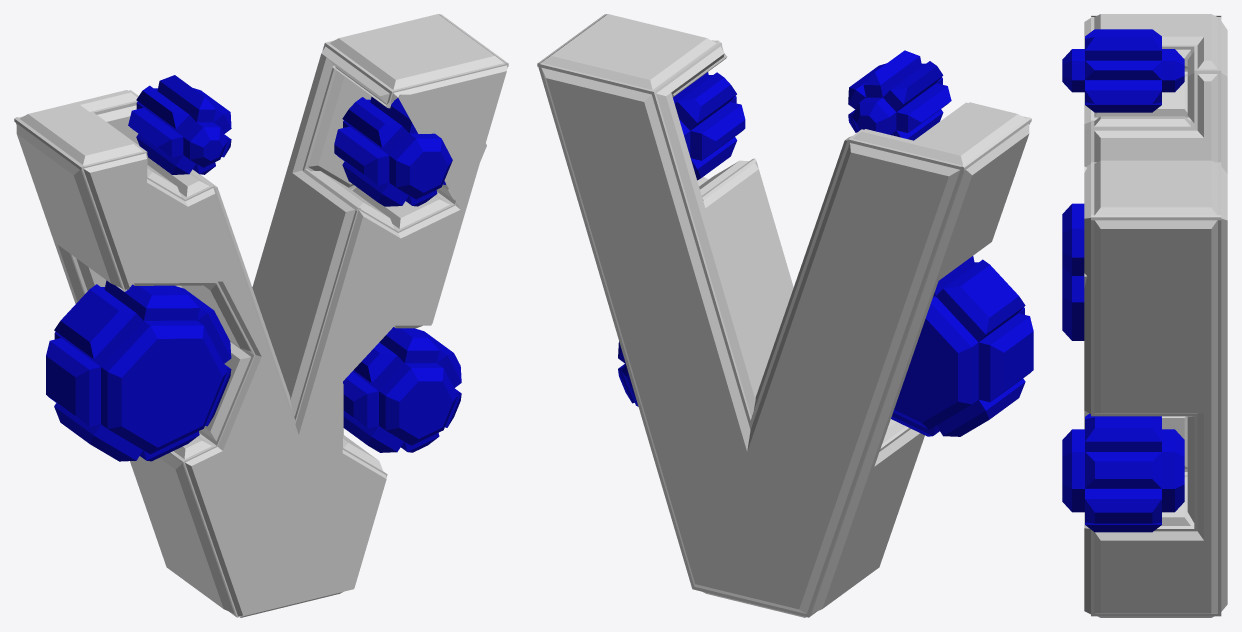
The picture shows the model from 3 angles, left to right: view 1: azimuth 30°, elevation 25°; view 2: azimuth 150°, elevation 25°; view 3: azimuth 270°, elevation 25°; orthographic projection. The views are drawn at different scales.
Visible parts, largest first — view 1: sphere1; view 2: sphere1; view 3: sphere1.
Part boxes in pixels (x1,y1,x2,y2): sphere1: (14,14,508,617); sphere1: (537,14,1033,617); sphere1: (1062,14,1227,617).
Size of the model in its own units: 0.7445 by 0.8741 by 0.2541.
